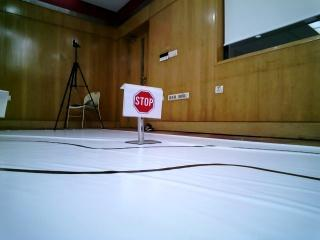stop: (131, 86, 161, 119)
